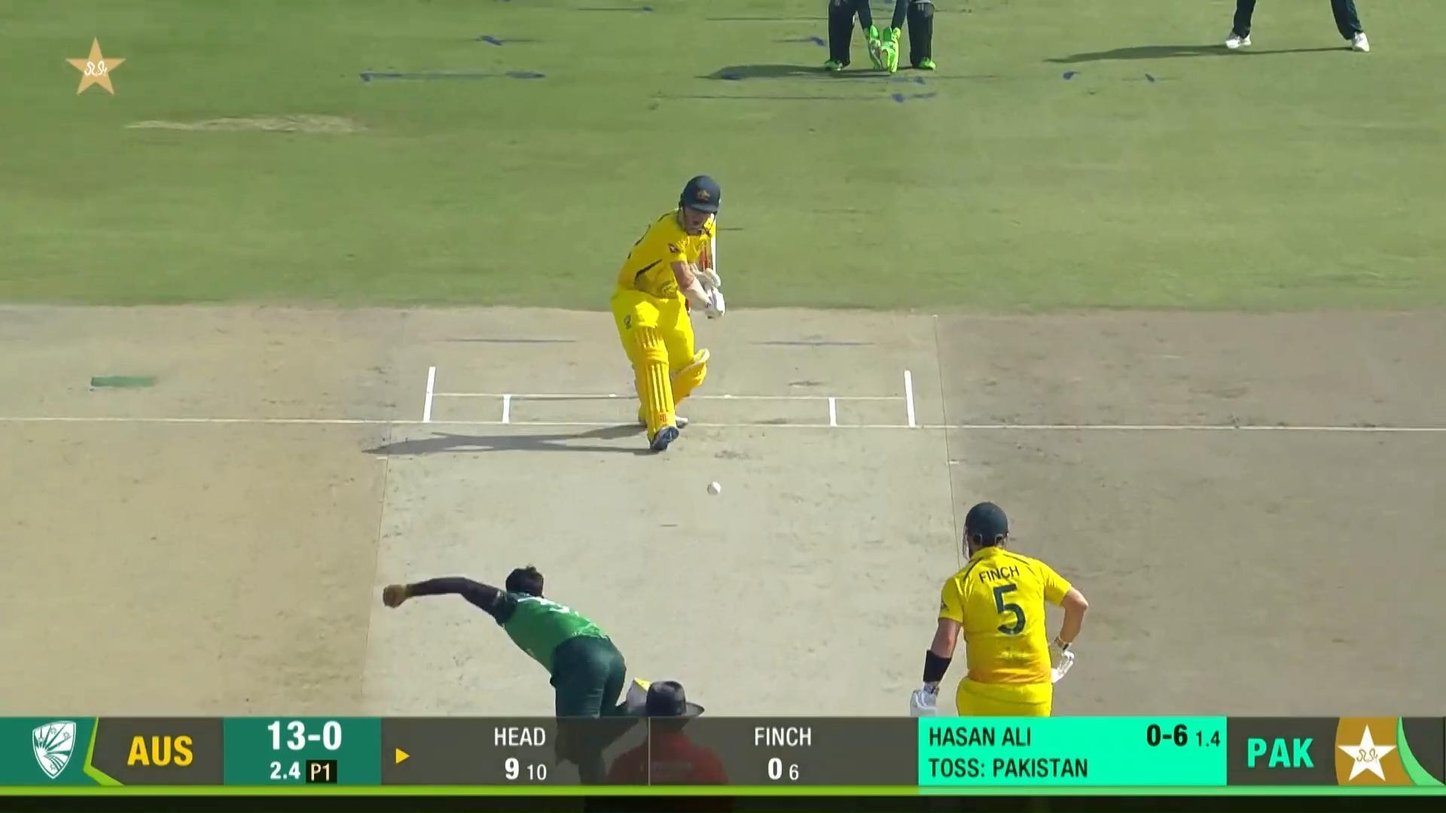BM 1: (610, 174, 726, 451)
BO: (382, 564, 649, 783)
